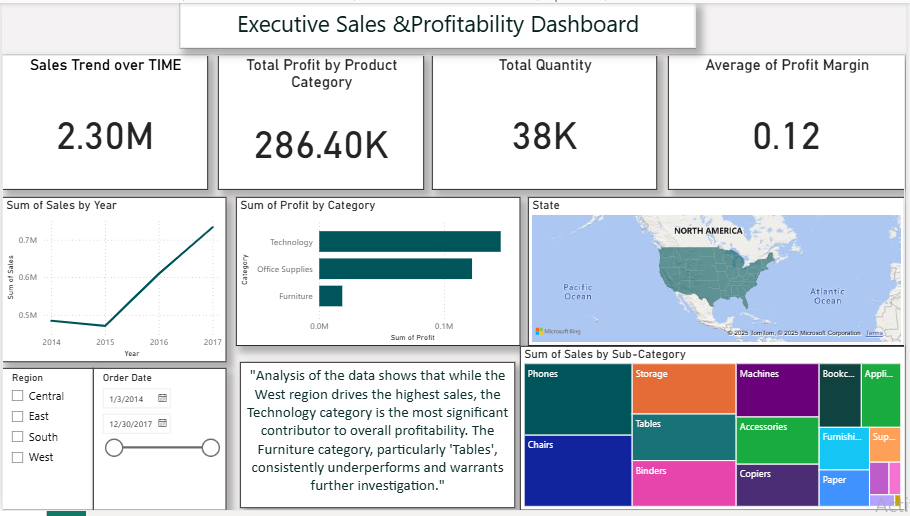

The dashboard page shown, as its layout file describes it:
{"tool":"powerbi","page":{"name":"Page 1","canvas":[1280,720],"ordinal":0},"visuals":[{"type":"card","title":"Sales Trend over TIME","fields":{"Values":["Sum(Sample - Superstore.Sales)"]},"box":[0,73.4,292.3,191.4],"z":0,"group":"g1"},{"type":"card","title":"Total Profit by Product Category","fields":{"Values":["Sum(Sample - Superstore.Profit)"]},"box":[305.8,73.4,292.3,191.4],"z":1000,"group":"g1"},{"type":"card","title":"Total Quantity","fields":{"Values":["Sum(Sample - Superstore.Quantity)"]},"box":[609.8,73.4,319.2,191.4],"z":2000,"group":"g1"},{"type":"card","title":"Average of Profit Margin","fields":{"Values":["Avg(Sample - Superstore.Profit Margin )","select"]},"box":[944.2,73.4,336,191.4],"z":3000,"group":"g1"},{"type":"lineChart","fields":{"Category":["Sample - Superstore.Order Date.Variation.Date Hierarchy.Year","Sample - Superstore.Order Date.Variation.Date Hierarchy.Quarter","Sample - Superstore.Order Date.Variation.Date Hierarchy.Month","Sample - Superstore.Order Date.Variation.Date Hierarchy.Day"],"Y":["Sum(Sample - Superstore.Sales)"]},"box":[0,275.4,317.5,233.6],"z":4000,"group":"g1"},{"type":"barChart","fields":{"Y":["Sum(Sample - Superstore.Profit)"],"Category":["Sample - Superstore.Category"]},"box":[331,275.4,403.2,211],"z":5000,"group":"g1"},{"type":"filledMap","fields":{"Category":["Sample - Superstore.State"]},"box":[745.9,275.4,534.2,211],"z":6000,"group":"g1"},{"type":"treemap","fields":{"Group":["Sample - Superstore.Sub-Category"],"Values":["Sum(Sample - Superstore.Sales)"]},"box":[734.4,486,545.8,233.3],"z":6001,"group":"g1"},{"type":"slicer","fields":{"Values":["Sample - Superstore.Region"]},"box":[0,517.7,129.6,201.6],"z":6002,"group":"g1"},{"type":"slicer","fields":{"Values":["Sample - Superstore.Order Date"]},"box":[129.6,517.7,188.6,201.6],"z":6003,"group":"g1"},{"type":"textbox","box":[337,508.3,390.2,207.4],"z":6004},{"type":"group","id":"g1","title":"Group 1","box":[0,73.4,1280.2,645.9],"z":6005},{"type":"textbox","box":[252.3,0,731.3,63.8],"z":6006}]}

Visuals, with their boxes in screenshot pixels (x1, y1, x2, y2), scaled from the page's 1280x720 canvas onto the 910x516 screenshot:
"Sales Trend over TIME" card: [0,53,208,190]
"Total Profit by Product Category" card: [217,53,425,190]
"Total Quantity" card: [434,53,660,190]
"Average of Profit Margin" card: [671,53,909,190]
lineChart - Sample - Superstore.Order Date.Variation.Date Hierarchy.Year x Sample - Superstore.Order Date.Variation.Date Hierarchy.Quarter: [0,197,226,365]
barChart - Sum(Sample - Superstore.Profit) x Sample - Superstore.Category: [235,197,522,349]
filledMap - Sample - Superstore.State: [530,197,909,349]
treemap - Sample - Superstore.Sub-Category x Sum(Sample - Superstore.Sales): [522,348,909,515]
slicer - Sample - Superstore.Region: [0,371,92,515]
slicer - Sample - Superstore.Order Date: [92,371,226,515]
textbox: [240,364,517,513]
"Group 1" group: [0,53,909,515]
textbox: [179,0,699,46]
